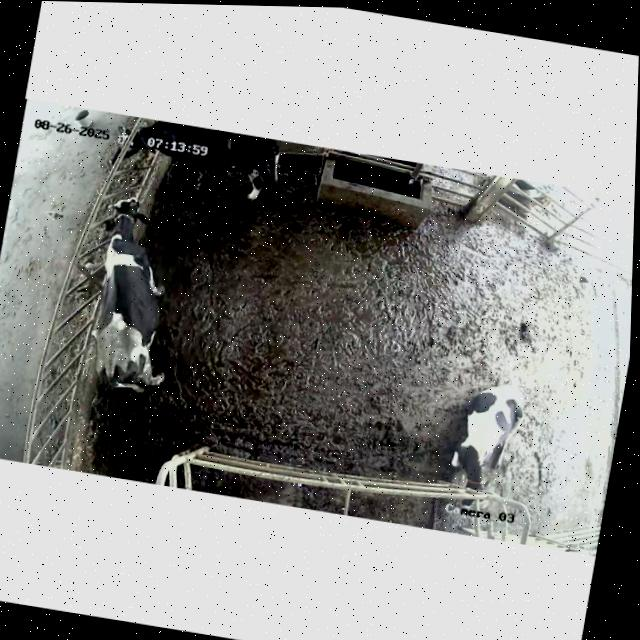stand: (92, 197, 164, 392)
